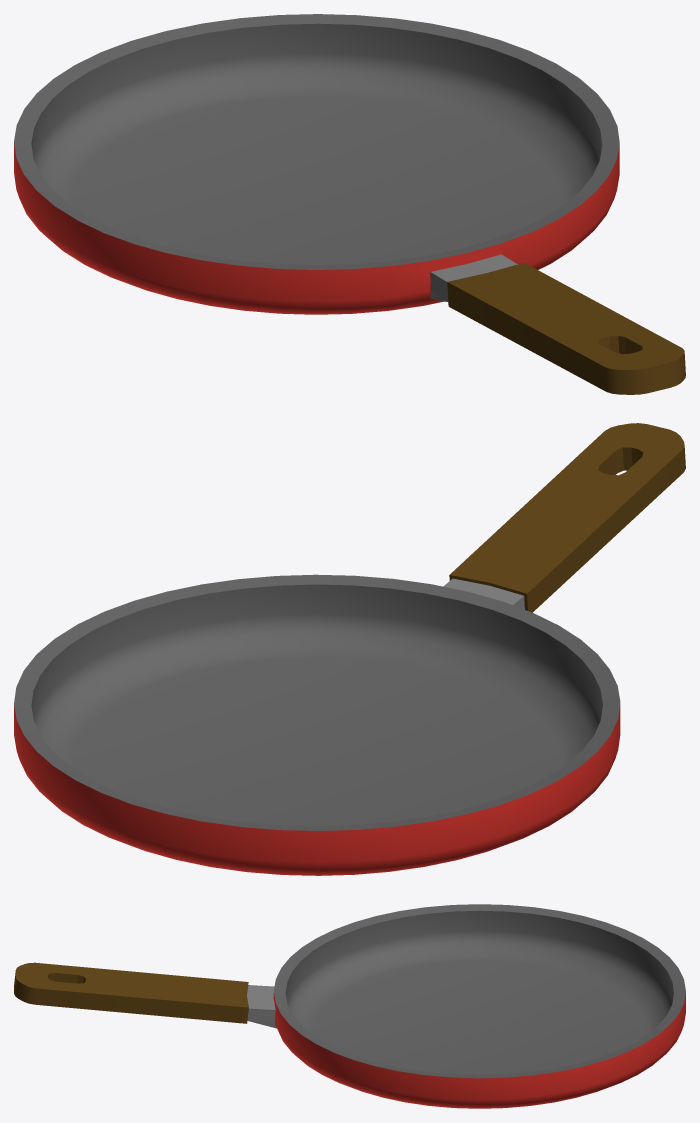
Rendered from Pan.fbx.
3 renders of one model, top to bottom at view 1: azimuth 30°, elevation 25°; view 2: azimuth 150°, elevation 25°; view 3: azimuth 270°, elevation 25°, orthographic. The views are drawn at different scales.
Visible parts, largest first — view 1: Pan; view 2: Pan; view 3: Pan.
Part boxes in pixels (<box>): Pan: <box>14,14,685,394</box>; Pan: <box>14,423,685,875</box>; Pan: <box>14,904,685,1108</box>.
Bounding box in the file's own units: 130 × 79.57 × 12.89.
